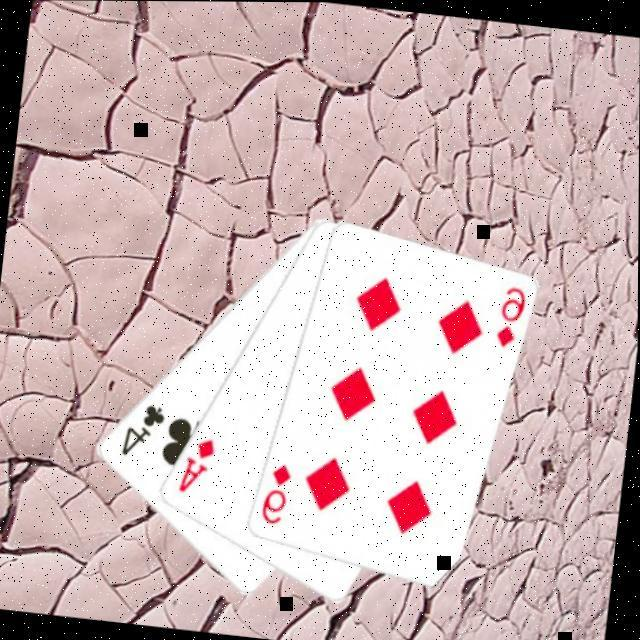4C: (118, 398, 171, 464)
6D: (258, 460, 296, 530), (492, 282, 530, 352)
AD: (177, 432, 220, 499)
